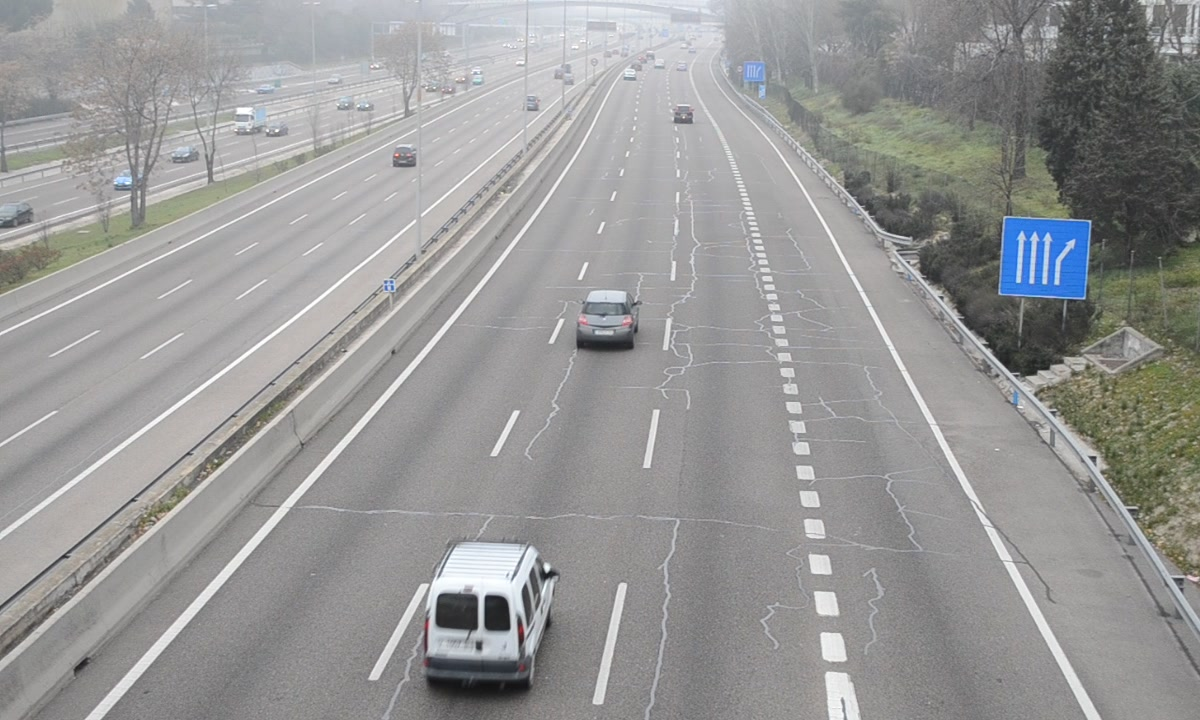car: (577, 289, 638, 343)
van: (422, 542, 554, 684)
